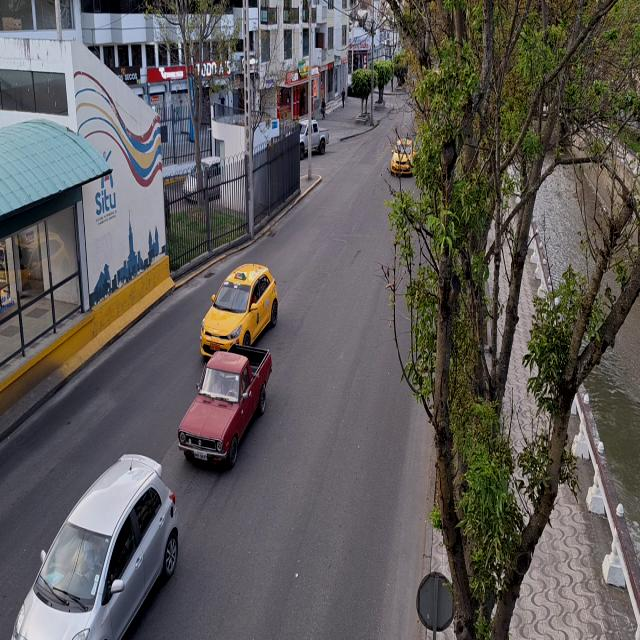CMT: (180, 342, 272, 474), (300, 117, 330, 157)
SED: (10, 450, 181, 639), (199, 262, 278, 359)
